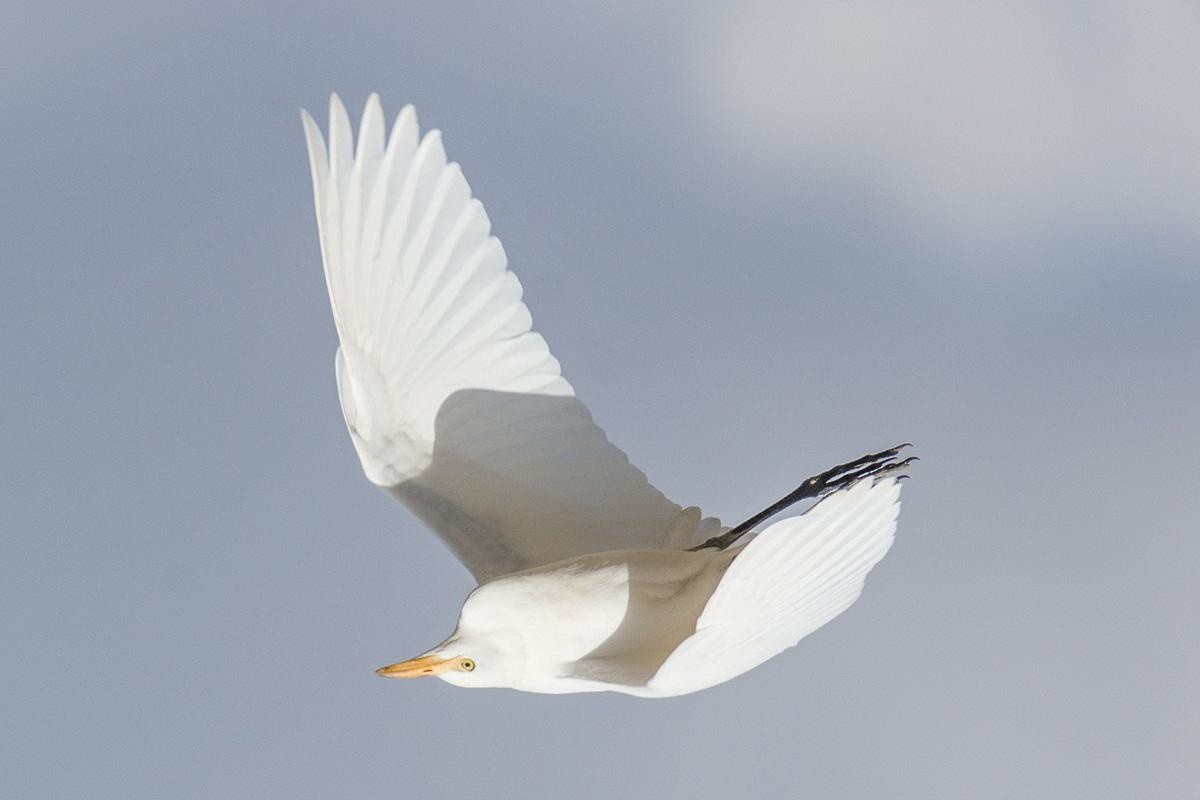egret: (302, 58, 930, 706)
